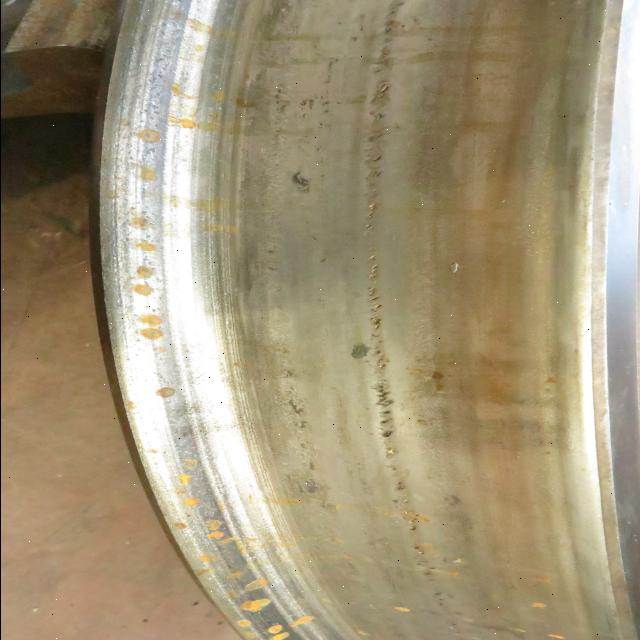boli: (348, 2, 405, 244), (394, 536, 473, 640), (358, 310, 408, 460)
